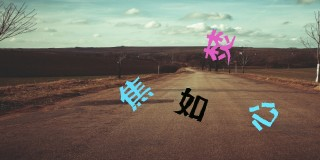如: (175, 87, 208, 122)
心: (249, 102, 279, 131)
焚: (203, 28, 236, 65)
焦: (118, 75, 154, 111)
